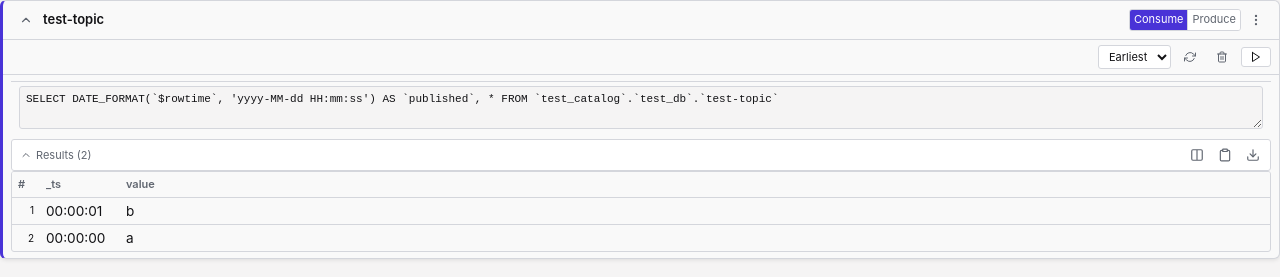
[@stream-card-layout] StreamCard Layout › Results bar › columns button opens column visibility dropdown
What coordinates should you click on to do the following:
click the button named "Toggle columns"
I would click on:
 (1197, 155)
Its box is [1184,142,1210,168].
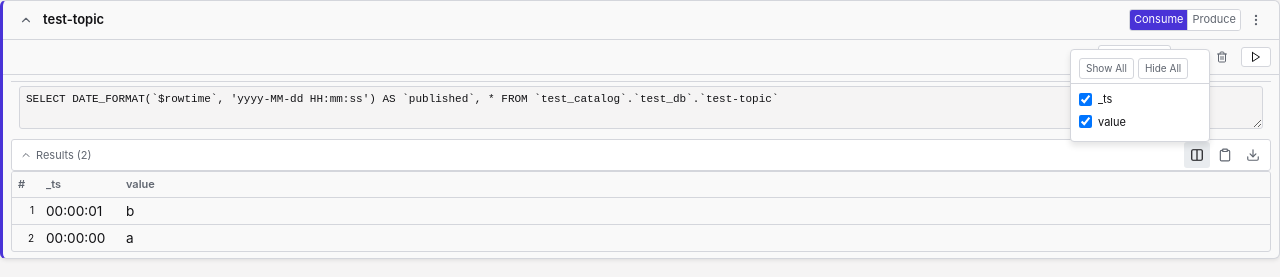
Expected: the button "Show All" is shown, [1079,58,1134,79]
Expected: the button "Hide All" is shown, [1138,58,1188,79]
